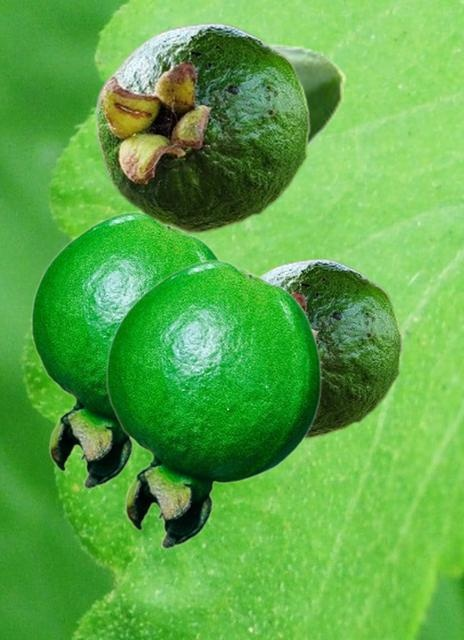guava: (105, 259, 321, 548), (30, 211, 219, 488), (94, 22, 310, 233), (260, 258, 402, 438), (270, 42, 346, 151)
